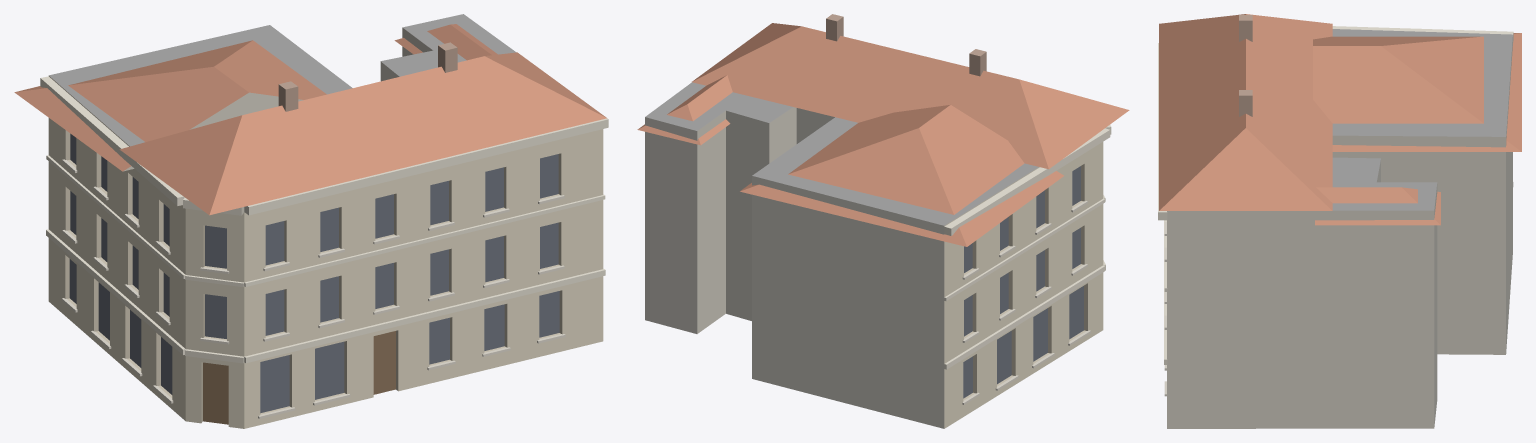
The picture shows the model from 3 angles, left to right: view 1: azimuth 30°, elevation 25°; view 2: azimuth 150°, elevation 25°; view 3: azimuth 270°, elevation 25°; orthographic projection. The views are drawn at different scales.
Visible parts, largest first — view 1: CP_267_Masonry, CP_267_Roof, CP_267_WingRoof_Rear_Wing_W, CP_267_Cornice_main_0, CP_267_Cornice_shop_0, CP_267_Cornice_string2_0, CP_267_Cornice_kulova_main, CP_267_WingRoof_Rear_Wing_E, CP_267_Cornice_kulova_shop, CP_267_Cornice_kulova_string2, CP_267_Chimney_0; view 2: CP_267_Masonry, CP_267_Roof, CP_267_WingRoof_Rear_Wing_W, CP_267_WingRoof_Rear_Wing_E, CP_267_Cornice_kulova_main, CP_267_Cornice_kulova_shop, CP_267_Cornice_kulova_string2; view 3: CP_267_Masonry, CP_267_Roof, CP_267_WingRoof_Rear_Wing_W, CP_267_WingRoof_Rear_Wing_E, CP_267_Cornice_kulova_main, CP_267_Chimney_0, CP_267_Chimney_1.
Boxes of the visible parts, bbox=[...] form: CP_267_Masonry: bbox=[48, 14, 603, 428]; CP_267_Roof: bbox=[119, 52, 606, 215]; CP_267_WingRoof_Rear_Wing_W: bbox=[14, 40, 326, 171]; CP_267_Cornice_main_0: bbox=[244, 118, 608, 215]; CP_267_Cornice_shop_0: bbox=[244, 269, 605, 363]; CP_267_Cornice_string2_0: bbox=[244, 194, 605, 286]; CP_267_Cornice_kulova_main: bbox=[40, 76, 184, 205]; CP_267_WingRoof_Rear_Wing_E: bbox=[394, 24, 497, 60]; CP_267_Cornice_kulova_shop: bbox=[46, 229, 185, 354]; CP_267_Cornice_kulova_string2: bbox=[46, 155, 185, 278]; CP_267_Chimney_0: bbox=[278, 81, 298, 111]; CP_267_Masonry: bbox=[645, 82, 1103, 428]; CP_267_Roof: bbox=[692, 23, 1129, 169]; CP_267_WingRoof_Rear_Wing_W: bbox=[740, 105, 1063, 246]; CP_267_WingRoof_Rear_Wing_E: bbox=[637, 75, 732, 145]; CP_267_Cornice_kulova_main: bbox=[944, 128, 1110, 235]; CP_267_Cornice_kulova_shop: bbox=[944, 265, 1105, 369]; CP_267_Cornice_kulova_string2: bbox=[944, 198, 1105, 300]; CP_267_Masonry: bbox=[1167, 29, 1512, 428]; CP_267_Roof: bbox=[1159, 14, 1332, 210]; CP_267_WingRoof_Rear_Wing_W: bbox=[1313, 33, 1521, 151]; CP_267_WingRoof_Rear_Wing_E: bbox=[1315, 187, 1440, 225]; CP_267_Cornice_kulova_main: bbox=[1332, 26, 1513, 42]; CP_267_Chimney_0: bbox=[1239, 15, 1252, 41]; CP_267_Chimney_1: bbox=[1239, 90, 1252, 116].
Size of the model in its own units: 23.1 by 15.8 by 18.45.
